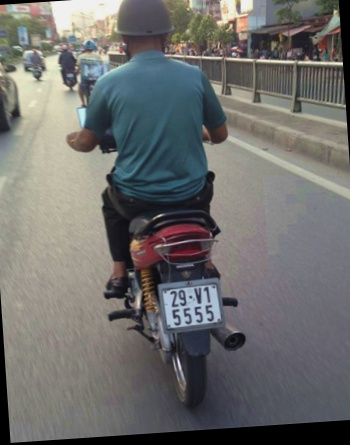Bien-so: (146, 298, 213, 354)
